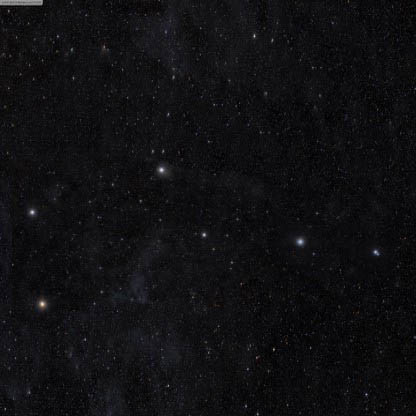Ursa Major: (144, 158, 170, 188), (359, 237, 387, 264), (286, 228, 311, 257), (26, 290, 50, 315), (21, 200, 44, 226), (196, 217, 215, 244)
